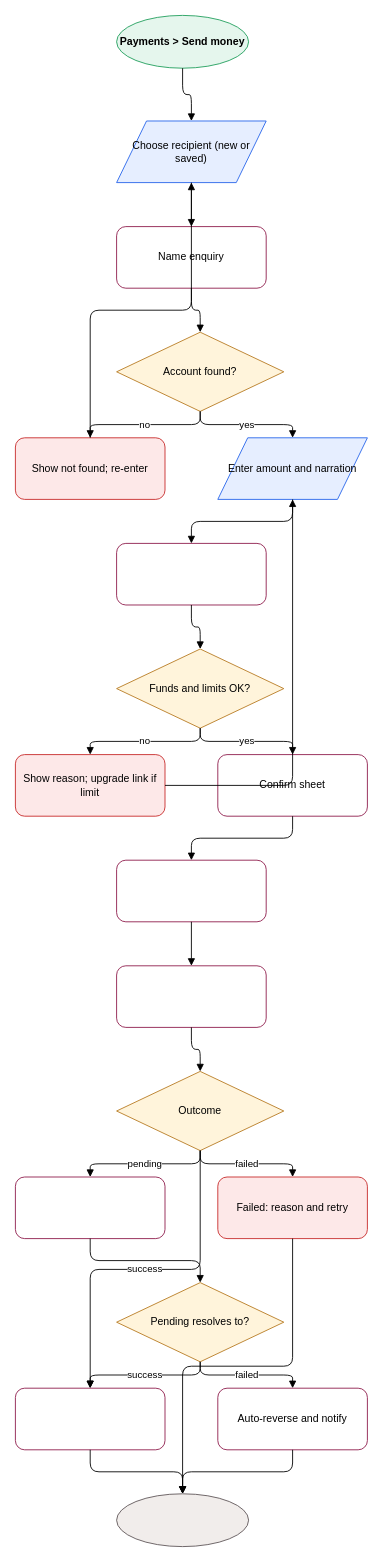
The diagram is 383 pixels wide and 1562 high, and some of its shapes have lost their labels. Here are the shapes that lost their labels. From the top down, the centre of each, then its label:
At (191,574): "Quote: fee, limits, total".
At (191,890): "PIN or biometric (step-up if risky)".
At (191,996): "Submit with idempotency key".
At (90,1207): "Pending: poll status and push".
At (90,1418): "Success: receipt".
At (182,1520): "Done; in history with receipt".
